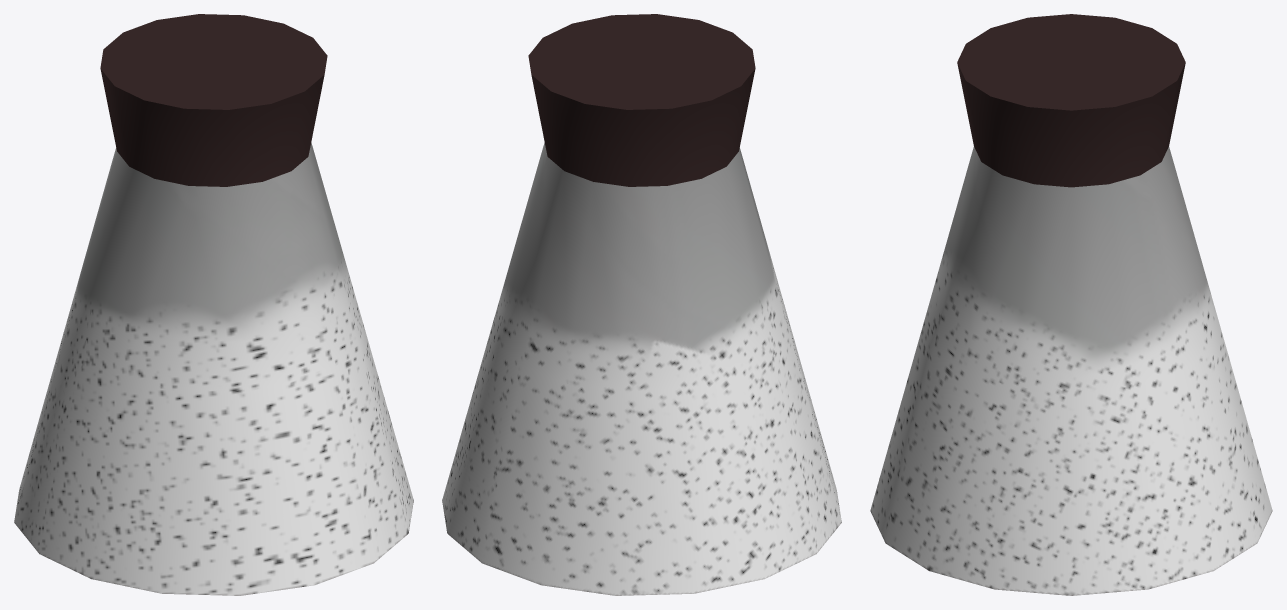
Rendered from salt.fbx.
3 renders of one model, left to right at view 1: azimuth 30°, elevation 25°; view 2: azimuth 150°, elevation 25°; view 3: azimuth 270°, elevation 25°, orthographic.
Visible parts, largest first — view 1: Cylinder.003; view 2: Cylinder.003; view 3: Cylinder.003.
Part boxes in pixels (x1,y1,x2,y2): Cylinder.003: (14, 14, 413, 595); Cylinder.003: (442, 14, 841, 595); Cylinder.003: (870, 14, 1272, 595).
Size of the model in its own units: 19.89 by 24.47 by 19.89.
